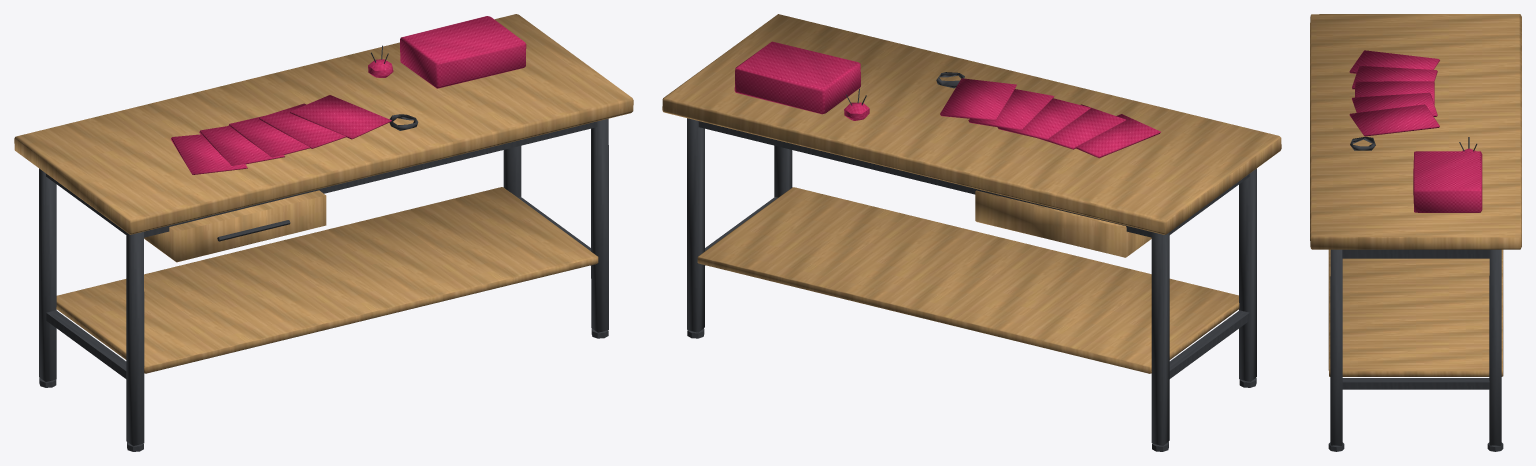
Rendered from bancada-20-leve.glb.
The picture shows the model from 3 angles, left to right: view 1: azimuth 30°, elevation 25°; view 2: azimuth 150°, elevation 25°; view 3: azimuth 270°, elevation 25°; orthographic projection. The views are drawn at different scales.
Parts seen in each view (by area): view 1: tampo, prateleira, caixa-de-amostras, gaveta, pe, pe.002, pe.001, amostra.004, longarina, amostra, amostra.003, amostra.001 (+3 smaller); view 2: tampo, prateleira, caixa-de-amostras, gaveta, pe.001, pe.003, pe, amostra.004, longarina.001, amostra, amostra.003, amostra.002 (+3 smaller); view 3: tampo, prateleira, caixa-de-amostras, pe.003, pe.002, amostra.004, apoio-prateleira.001, travessa-lado.001, amostra.003, amostra, amostra.001, amostra.002 (+1 smaller).
Part boxes in pixels (x1=…): tampo: x1=14, y1=14, x2=633, y2=234; prateleira: x1=56, y1=187, x2=598, y2=373; caixa-de-amostras: x1=400, y1=16, x2=526, y2=88; gaveta: x1=144, y1=190, x2=326, y2=262; pe: x1=126, y1=231, x2=144, y2=446; pe.002: x1=591, y1=118, x2=608, y2=332; pe.001: x1=39, y1=168, x2=56, y2=381; amostra.004: x1=289, y1=95, x2=391, y2=139; longarina: x1=144, y1=121, x2=597, y2=237; amostra: x1=171, y1=134, x2=247, y2=174; amostra.003: x1=259, y1=103, x2=345, y2=148; amostra.001: x1=199, y1=126, x2=284, y2=165; tampo: x1=662, y1=14, x2=1281, y2=234; prateleira: x1=697, y1=187, x2=1239, y2=373; caixa-de-amostras: x1=734, y1=41, x2=860, y2=114; gaveta: x1=975, y1=190, x2=1151, y2=257; pe.001: x1=1151, y1=232, x2=1169, y2=445; pe.003: x1=687, y1=118, x2=704, y2=332; pe: x1=1239, y1=168, x2=1256, y2=381; amostra.004: x1=940, y1=78, x2=1016, y2=120; longarina.001: x1=698, y1=121, x2=1151, y2=237; amostra: x1=1076, y1=114, x2=1160, y2=158; amostra.003: x1=968, y1=89, x2=1054, y2=130; amostra.002: x1=997, y1=98, x2=1090, y2=140; tampo: x1=1310, y1=14, x2=1521, y2=249; prateleira: x1=1328, y1=249, x2=1503, y2=376; caixa-de-amostras: x1=1413, y1=151, x2=1482, y2=212; pe.003: x1=1489, y1=249, x2=1501, y2=445; pe.002: x1=1330, y1=249, x2=1342, y2=445; amostra.004: x1=1349, y1=104, x2=1439, y2=136; apoio-prateleira.001: x1=1342, y1=378, x2=1489, y2=389; travessa-lado.001: x1=1342, y1=249, x2=1489, y2=258; amostra.003: x1=1352, y1=92, x2=1437, y2=116; amostra: x1=1349, y1=50, x2=1439, y2=73; amostra.001: x1=1352, y1=66, x2=1437, y2=89; amostra.002: x1=1355, y1=81, x2=1434, y2=104.
Size of the model in its own units: 2 by 1.02 by 0.8.
3 materials, 3 textured.
